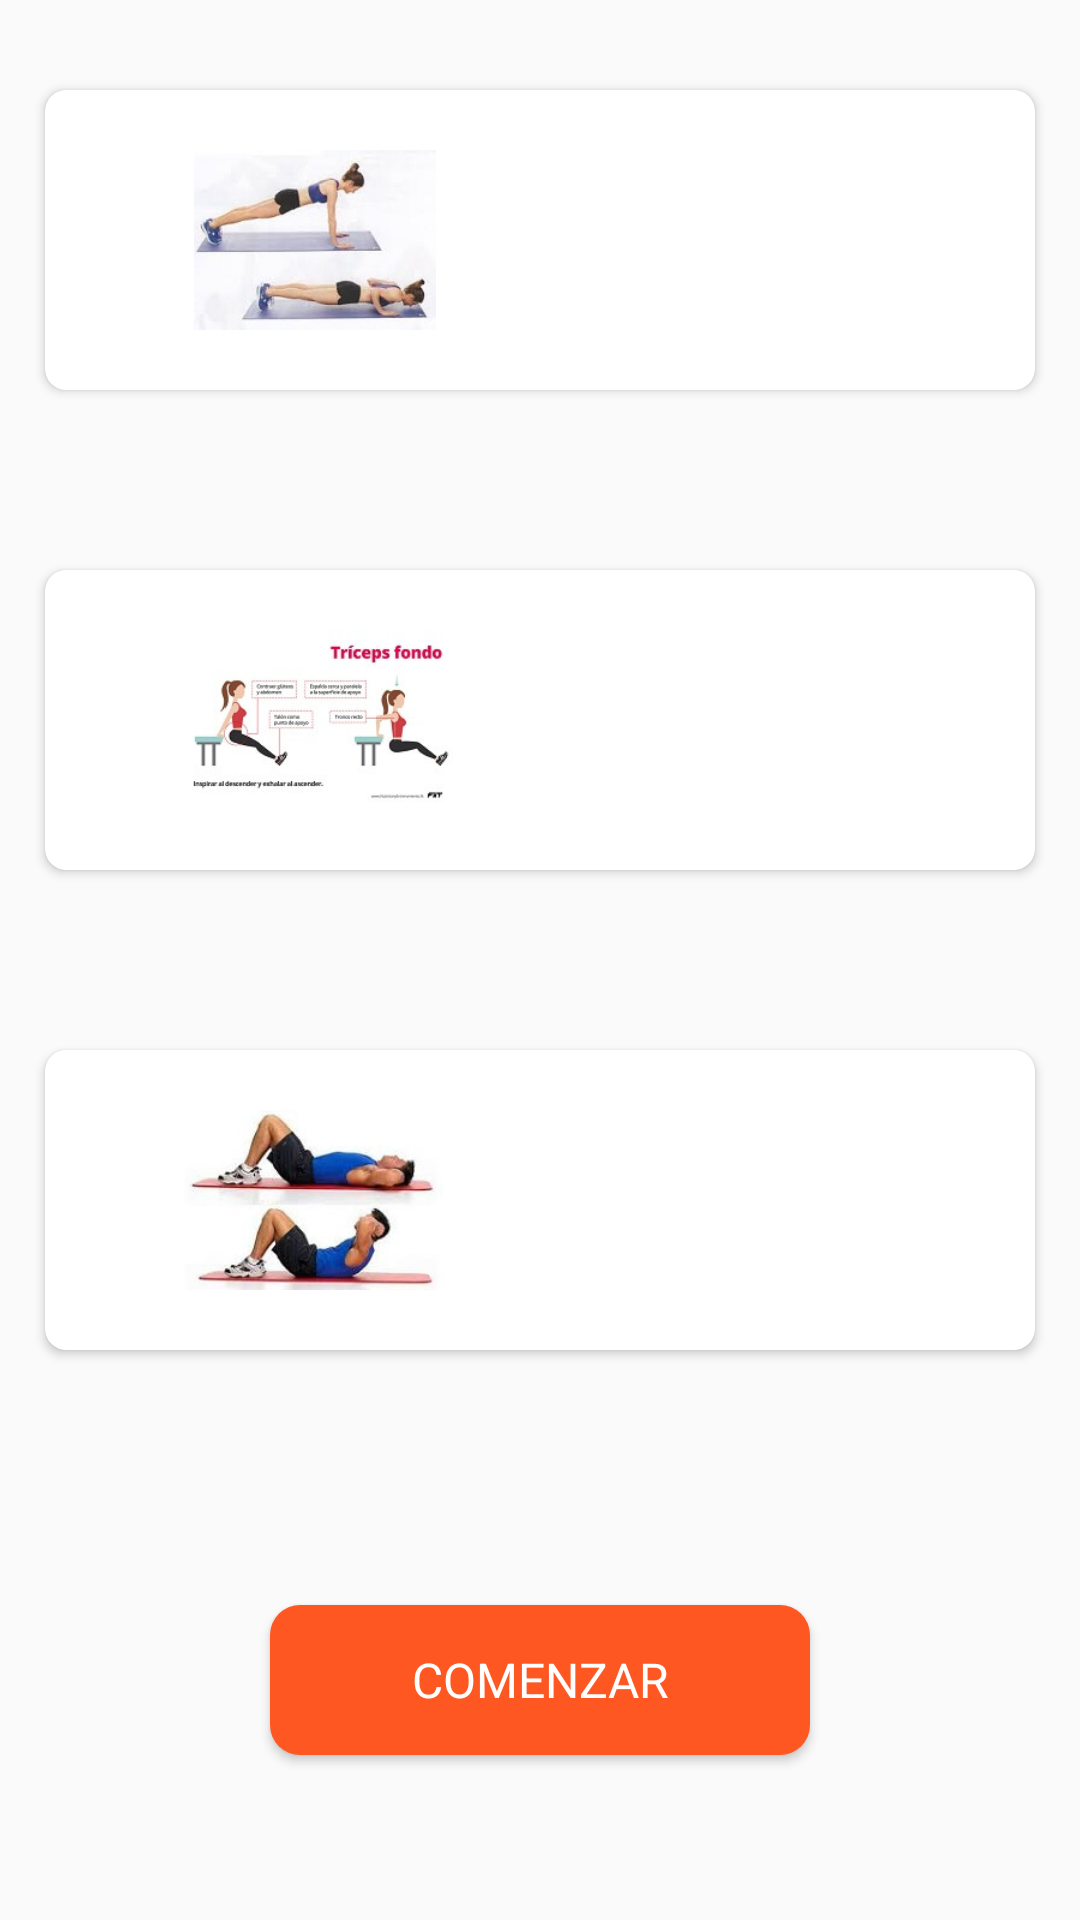

Locate icon controls on the screen. Image size 1080×1920, boxes as (x1, y1, x2, y2).
abdominal: (191, 1114, 434, 1290)
flexion: (196, 162, 427, 320)
